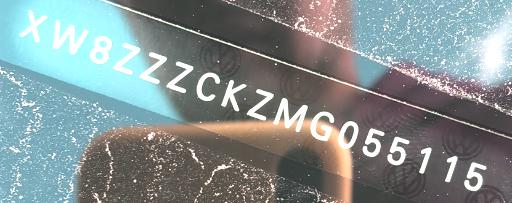letter: (52, 19, 90, 55), (272, 95, 308, 132), (16, 5, 48, 45), (112, 40, 142, 76), (138, 50, 168, 85), (165, 60, 195, 95), (245, 87, 275, 122), (194, 69, 222, 102), (219, 79, 247, 112), (308, 109, 336, 141), (360, 125, 386, 159), (385, 134, 411, 167), (463, 160, 487, 193), (336, 117, 360, 149), (88, 34, 112, 64), (416, 145, 434, 176), (444, 153, 458, 186)
